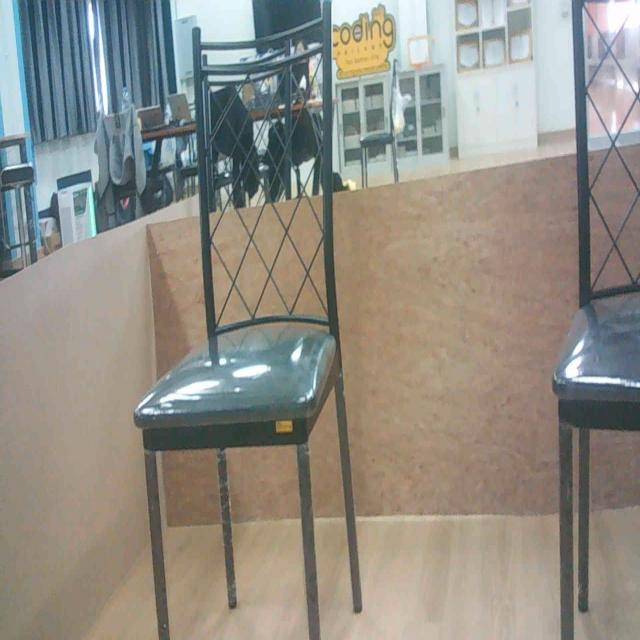emtpy: (127, 40, 351, 640), (533, 0, 640, 640)
